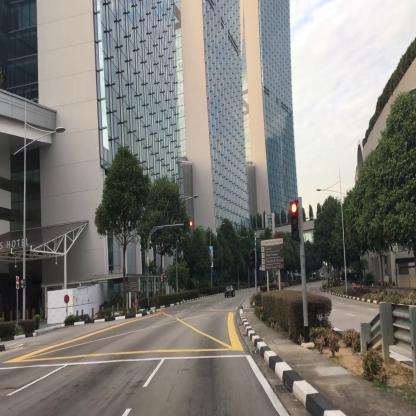red_traffic_light: (291, 201, 299, 238), (184, 222, 192, 226)
